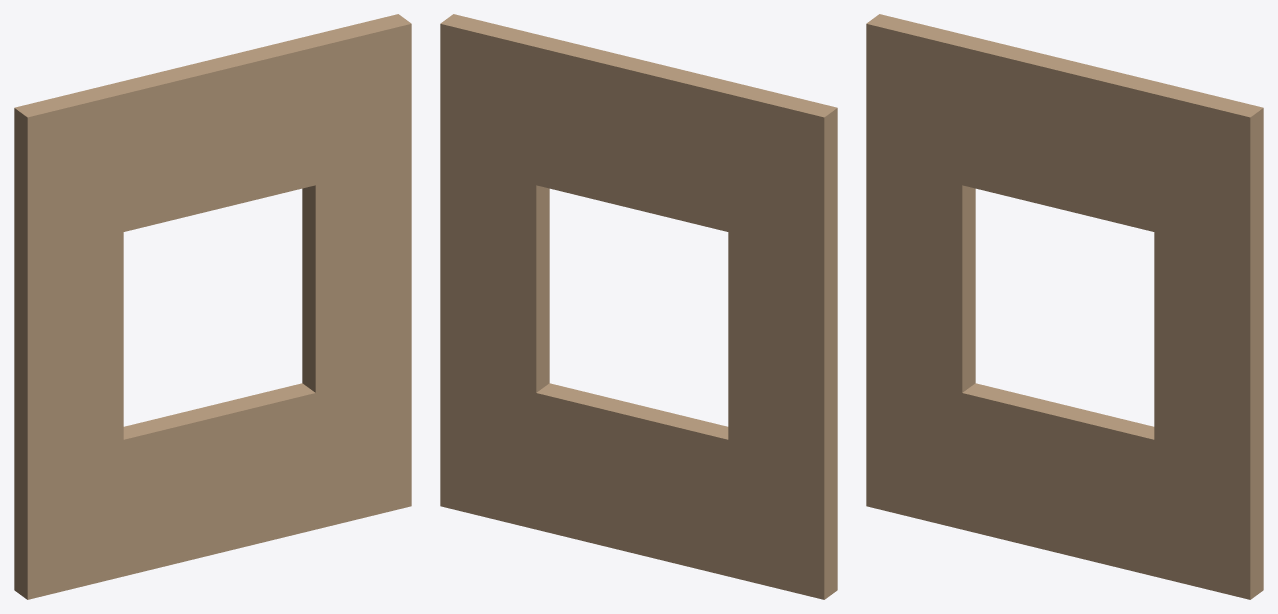
The model's file is Wall2_C1_04.fbx.
The picture shows the model from 3 angles, left to right: view 1: azimuth 30°, elevation 25°; view 2: azimuth 150°, elevation 25°; view 3: azimuth 330°, elevation 25°; orthographic projection.
Visible parts, largest first — view 1: Wall2_C1_04; view 2: Wall2_C1_04; view 3: Wall2_C1_04.
Boxes of the visible parts, bbox=[...] form: Wall2_C1_04: bbox=[14, 14, 411, 599]; Wall2_C1_04: bbox=[440, 14, 837, 599]; Wall2_C1_04: bbox=[866, 14, 1263, 599].
Bounding box in the file's own units: 250 × 300 × 15.
